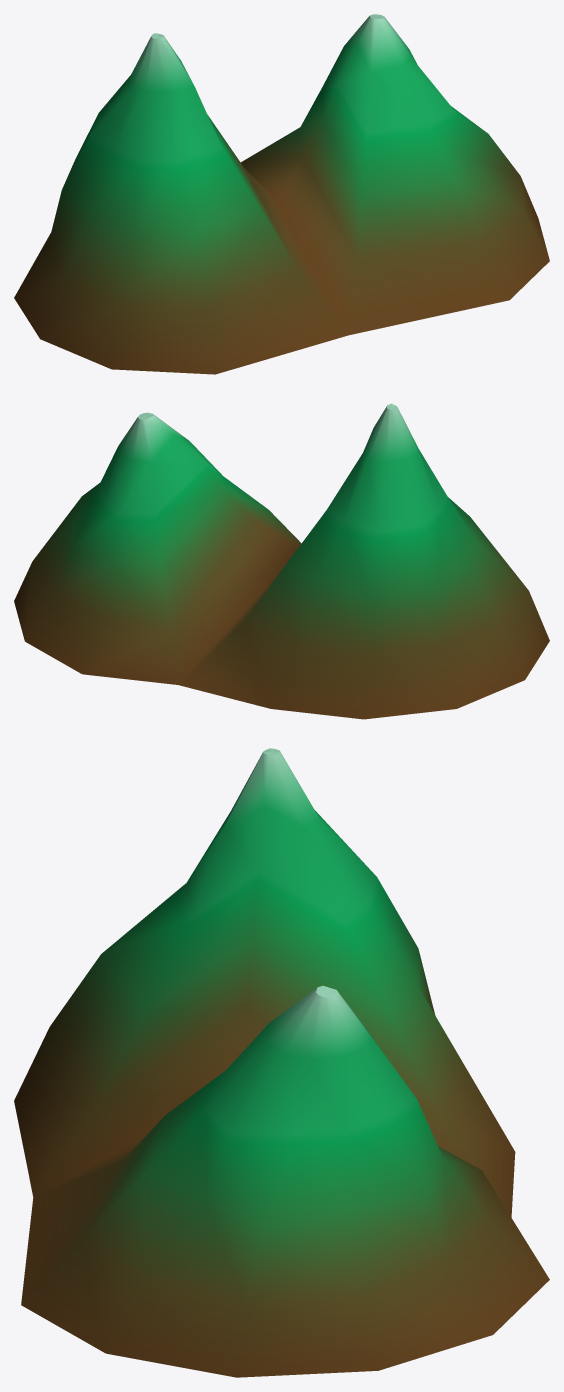
The model's file is mountain_two.FBX.
3 views of the same model, one above another, from view 1: azimuth 30°, elevation 25°; view 2: azimuth 150°, elevation 25°; view 3: azimuth 270°, elevation 25° (orthographic). The views are drawn at different scales.
Parts seen in each view (by area): view 1: Cylinder002; view 2: Cylinder002; view 3: Cylinder002.
Part boxes in pixels (<box>): Cylinder002: <box>14,14,549,374</box>; Cylinder002: <box>14,403,549,719</box>; Cylinder002: <box>14,748,549,1377</box>.
Bounding box in the file's own units: 434 × 220 × 287.
